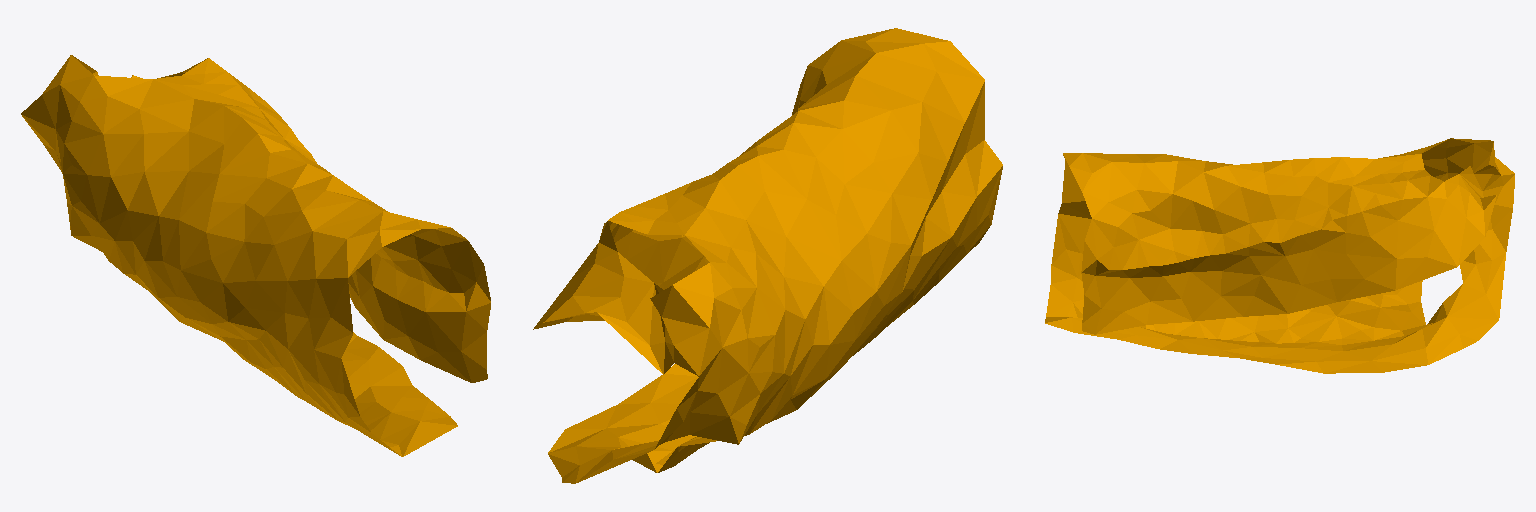
The robot description file, URDF, robot "init":
<?xml version='1.0' encoding='utf-8'?>
<robot name="init">
<link name="link_0"><inertial><mass value="1.0" /><origin rpy="0 0 0" xyz="0.000000 0.000000 0.000000" /><inertia ixx="1.0" ixy="0.0" ixz="0.0" iyy="1.0" iyz="0.0" izz="1.0" /></inertial><visual><origin rpy="0 0 0" xyz="0.000000 0.000000 0.000000" /><geometry><mesh filename="./clothHuman/cloth/2960.obj" /></geometry></visual><collision><origin rpy="0 0 0" xyz="0.000000 0.000000 0.000000" /><geometry><mesh filename="./clothHuman/cloth/2960.obj" /></geometry></collision></link></robot>

--- Facts derived from the render (not from the file) ---
Views: 3 orthographic renders of the robot side by side, from view 1: azimuth 30°, elevation 25°; view 2: azimuth 150°, elevation 25°; view 3: azimuth 270°, elevation 25°.
Model init with 1 links and 0 joints (none), rooted at link_0, posed every joint at zero.
Visible links, largest first — view 1: link_0; view 2: link_0; view 3: link_0.
Link boxes in pixels (<box>): link_0: <box>21,55,490,456</box>; link_0: <box>533,28,1002,483</box>; link_0: <box>1045,138,1514,373</box>.
Size in the robot's own frame: 1.52 by 3.92 by 1.67 metres.
1 mesh visuals loaded from 1 distinct referenced files (1 OBJ).